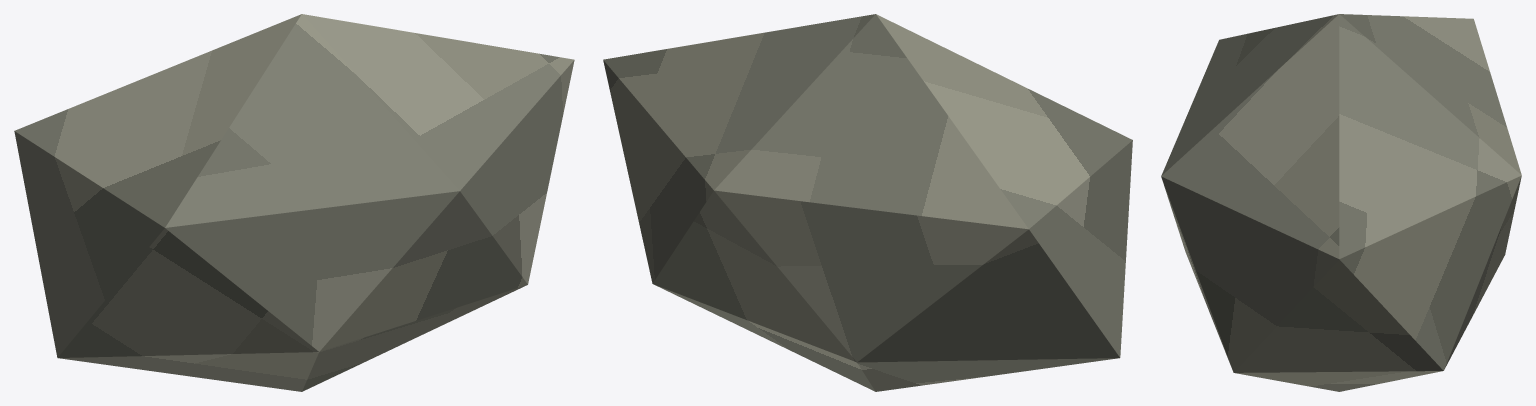
Rendered from Rock_1.fbx.
3 renders of one model, left to right at view 1: azimuth 30°, elevation 25°; view 2: azimuth 150°, elevation 25°; view 3: azimuth 270°, elevation 25°, orthographic.
Parts seen in each view (by area): view 1: Rock_1; view 2: Rock_1; view 3: Rock_1.
Part boxes in pixels (bbox=[...]): Rock_1: bbox=[14, 14, 574, 391]; Rock_1: bbox=[603, 14, 1132, 391]; Rock_1: bbox=[1161, 14, 1521, 391].
Bounding box in the file's own units: 214 × 150 × 129.
1 material, 1 textured.
